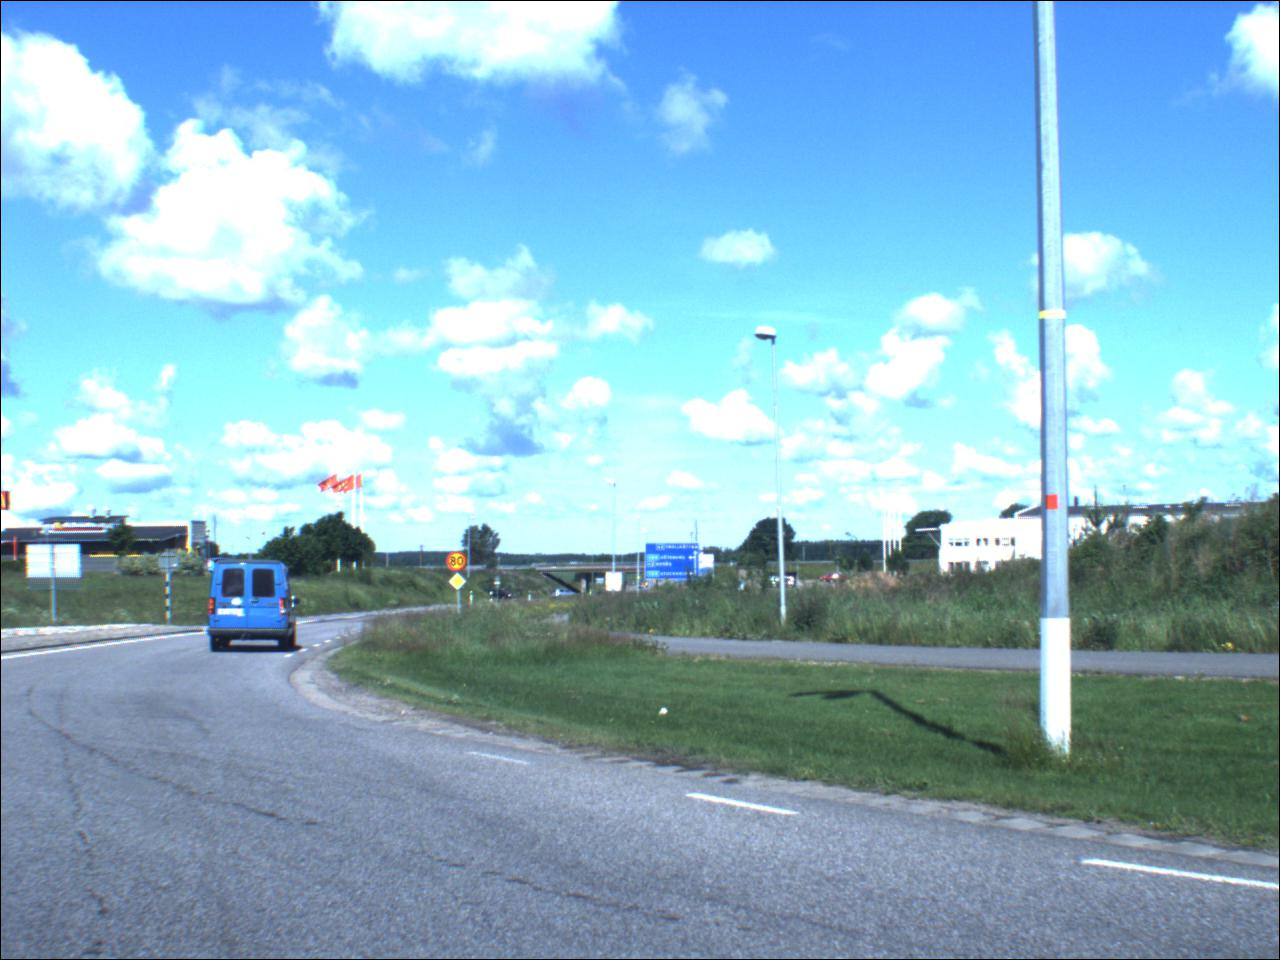80_SIGN: (449, 553, 472, 574)
PRIORITY_ROAD: (451, 574, 471, 595)
